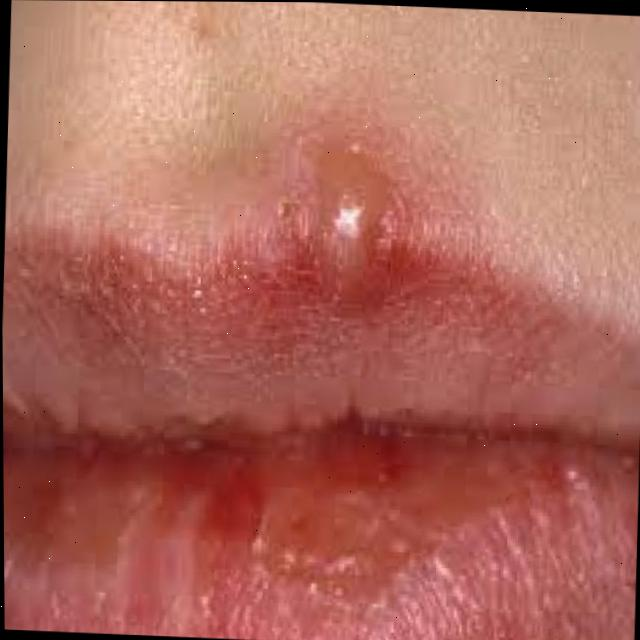Eczema: (285, 154, 411, 278)
